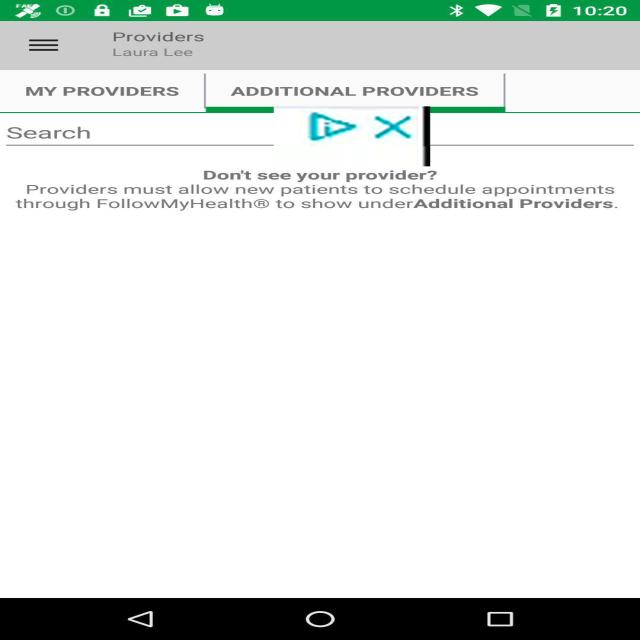sneaking: (274, 106, 430, 166)
